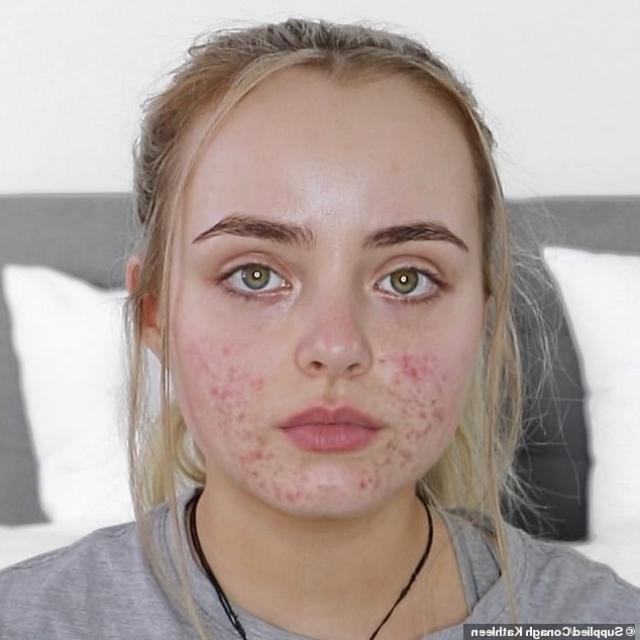acne: (163, 178, 300, 518)
